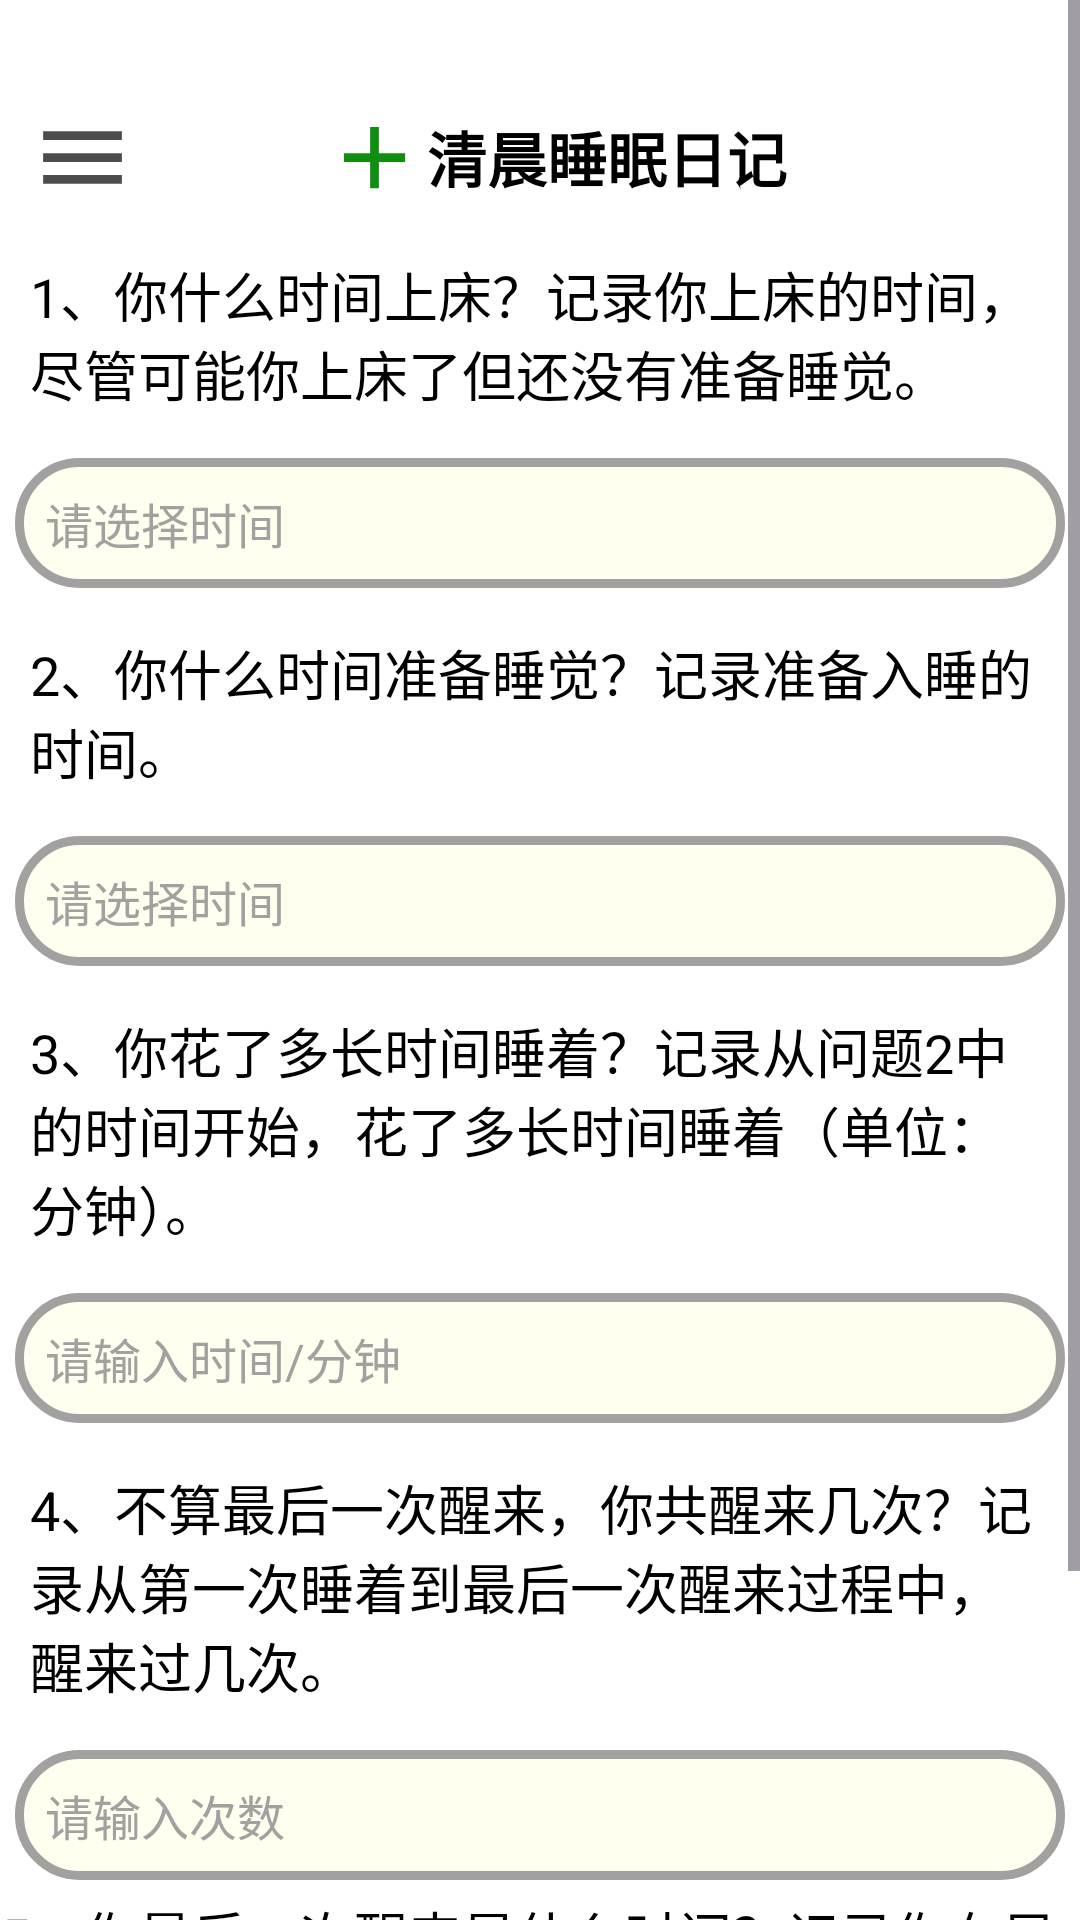

Named icons in this screenshot (1080×1920) and their centers, [x,y]:
add: [374,158]
menu: [82,157]
